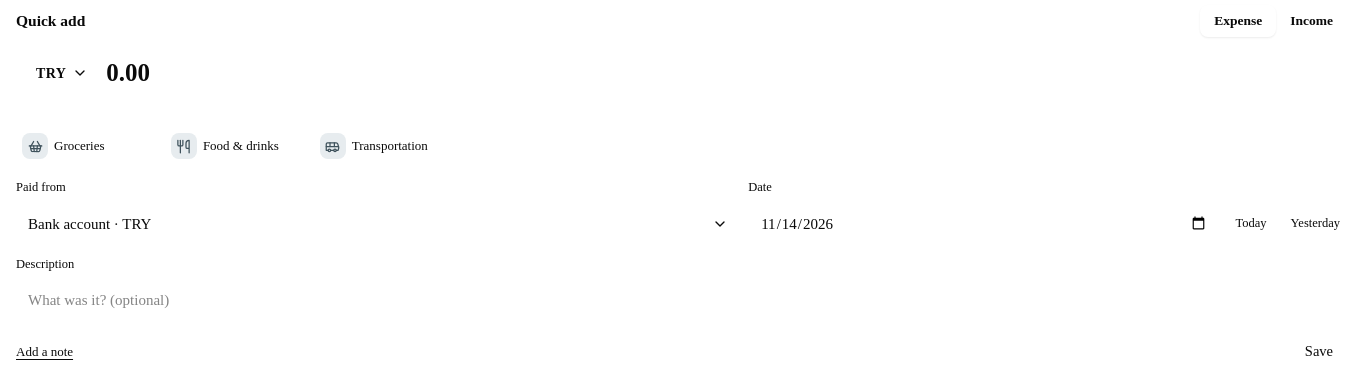
it: Quick Add saving › saves with Enter, acknowledges, refreshes, and is ready for the next one
Type "1,250.5" into the field named "Amount".
click(723, 73); type("1,250.5")  # box [106, 53, 1340, 93]
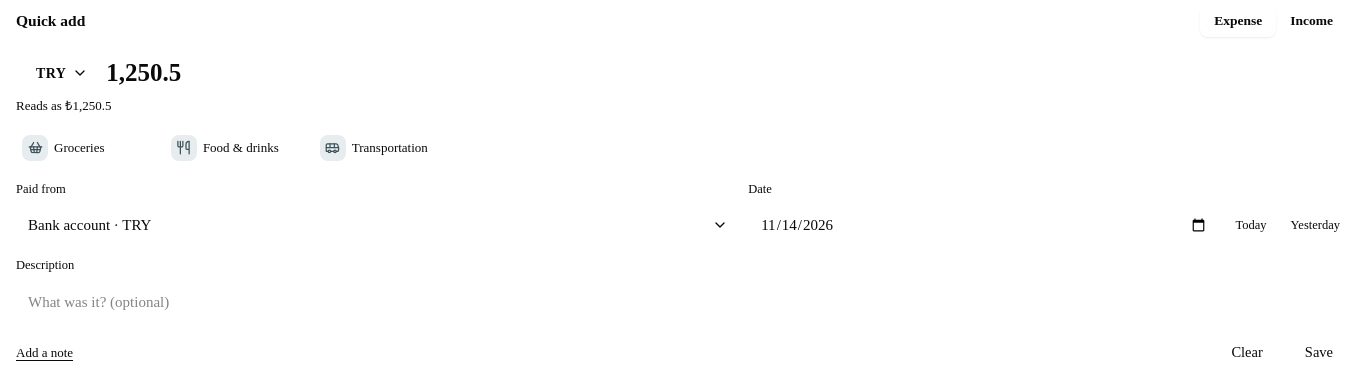
Expected: the text "Reads as ₺1,250.5" is shown, [16, 98, 112, 113]
Type "  Weekly shop " into the field labelled "Description".
click(683, 302); type("  Weekly shop ")  # box [16, 281, 1350, 323]
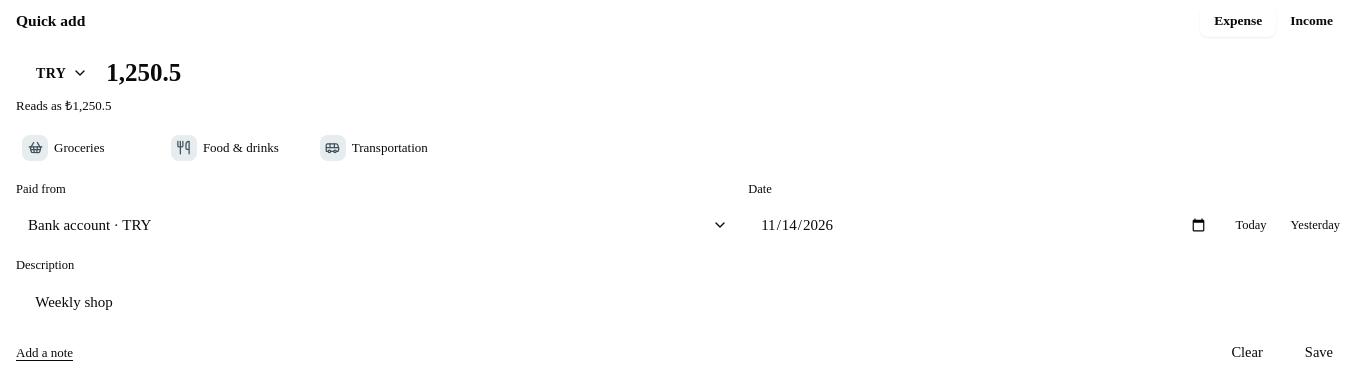
Press Enter in the field named "Amount", box [106, 53, 1340, 93]
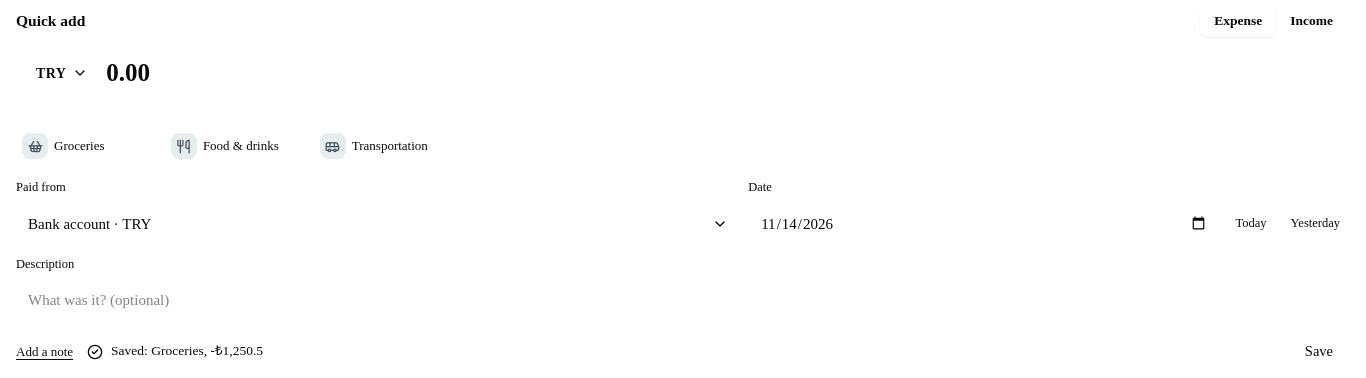
Expected: the radio button labelled "Groceries" is checked, [22, 133, 104, 159]
Expected: the text "Saved: Groceries, -₺1,250.5" is shown, [111, 341, 263, 362]
Expected: the field named "Amount" is empty, [106, 53, 1340, 93]
